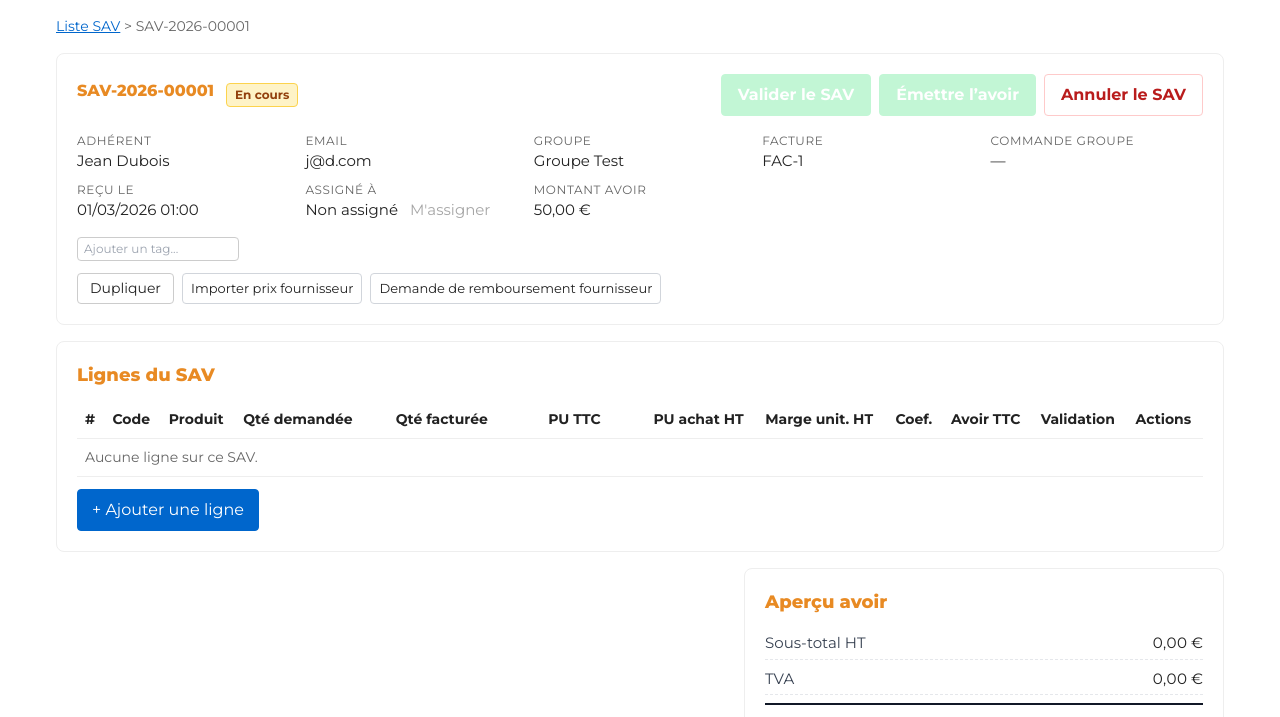
Scenario: SavDetailView — modal import (AC #4) › IMP-UI-04: click bouton ouvre le modal avec input file
This screenshot has width=1280, height=717.
Click the button with test id "import-supplier-prices-btn" at (272, 288), box x1=182 y1=273 x2=362 y2=304
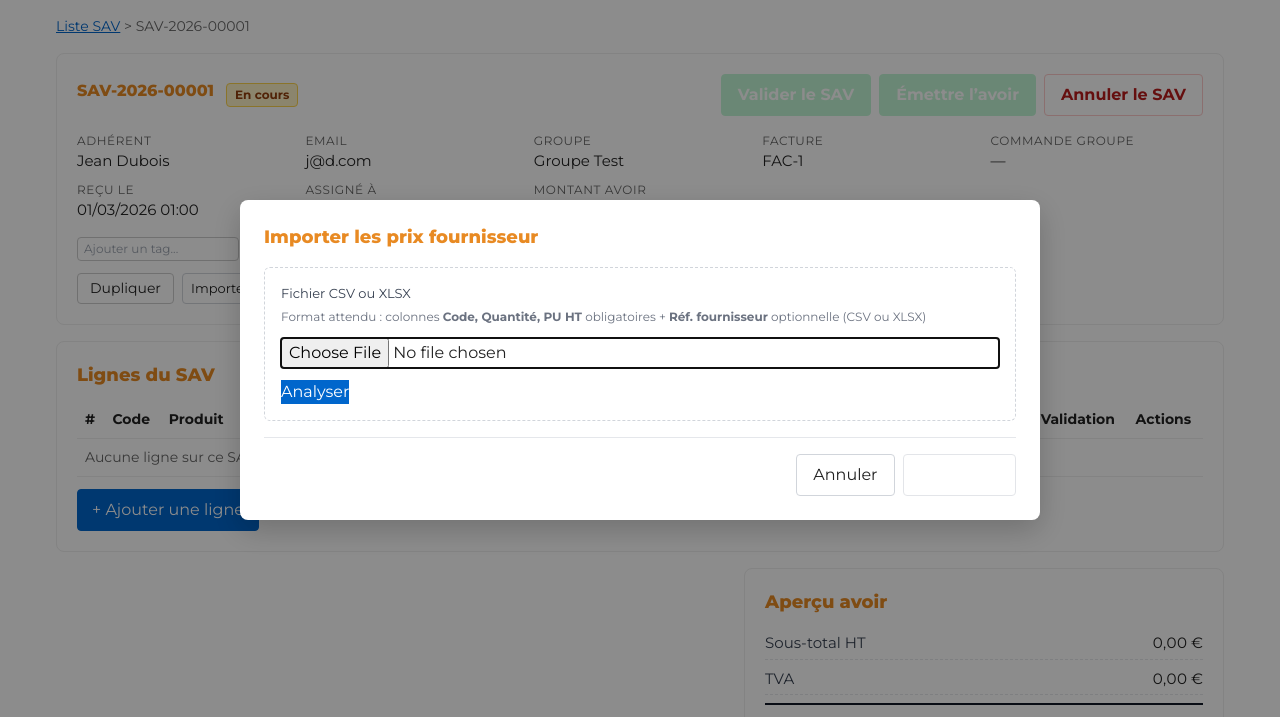
Expected: the file field labelled "Fichier CSV ou XLSX" is shown, x1=281 y1=338 x2=999 y2=368
